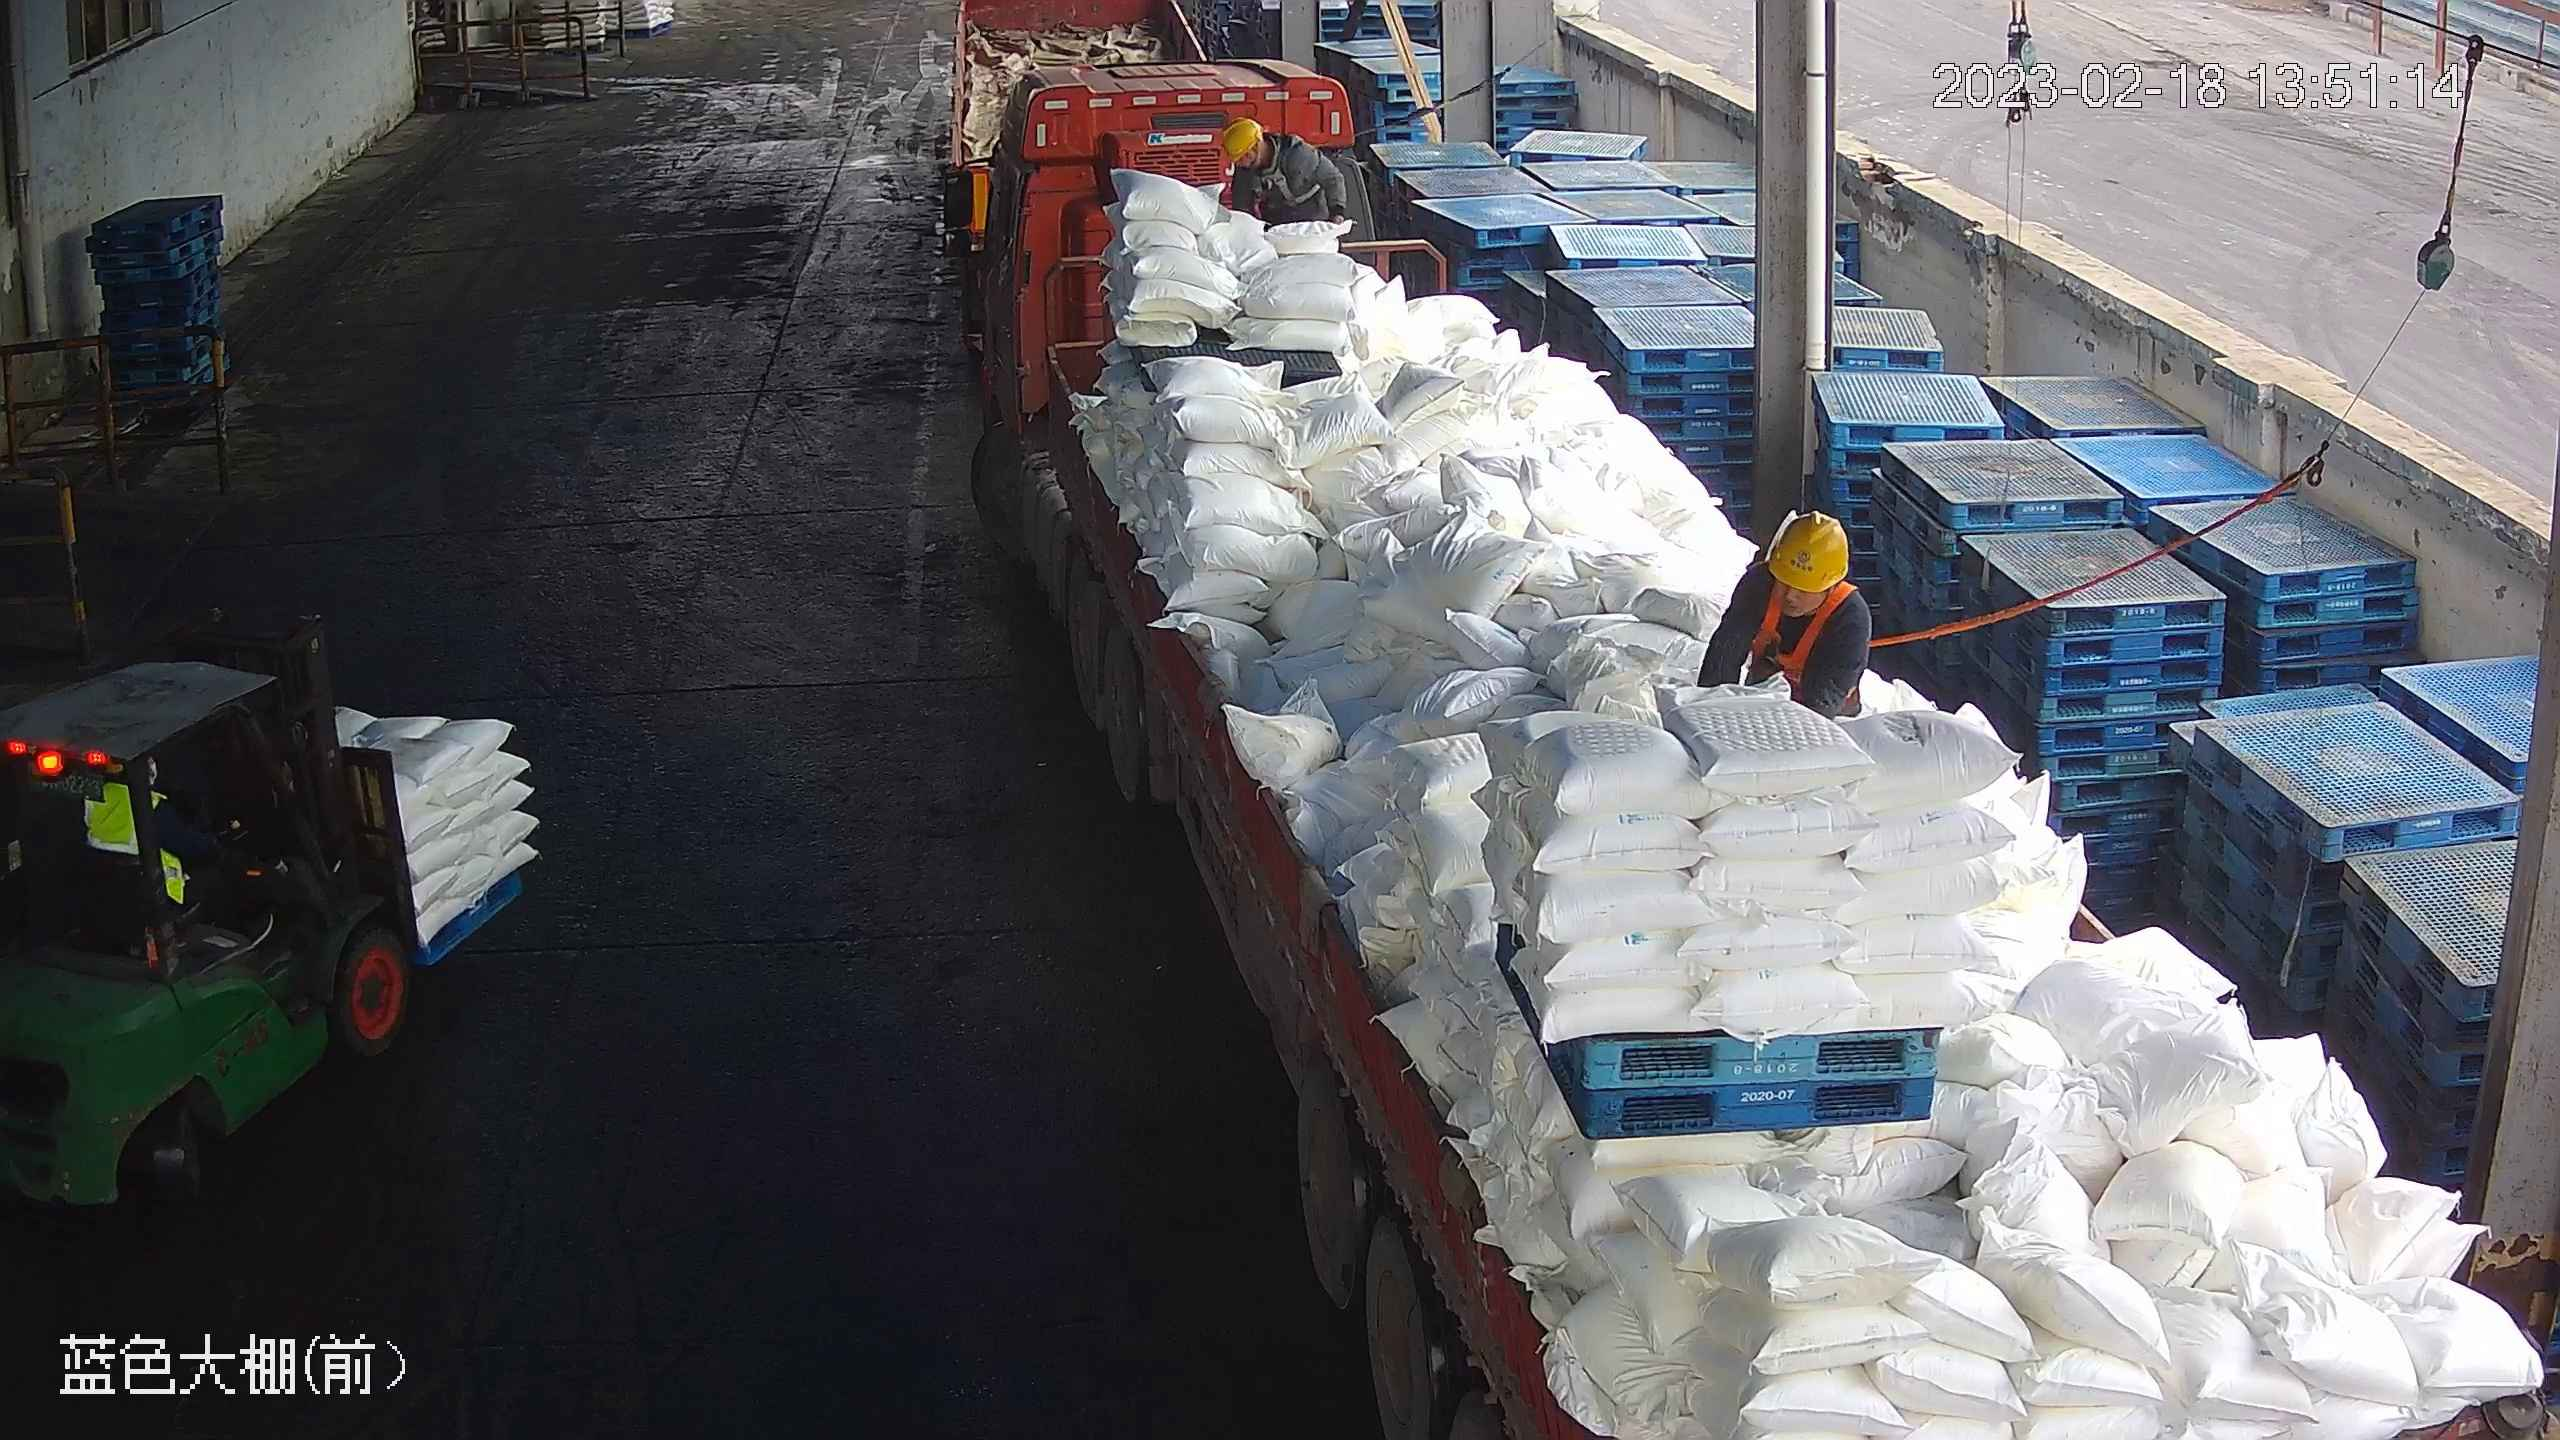belt: (1742, 596, 1856, 696), (1245, 166, 1323, 215)
head: (1705, 515, 1874, 669), (1222, 117, 1334, 215)
helmet: (1764, 515, 1849, 589), (1218, 108, 1269, 162)
truck: (935, 64, 2560, 1440)
